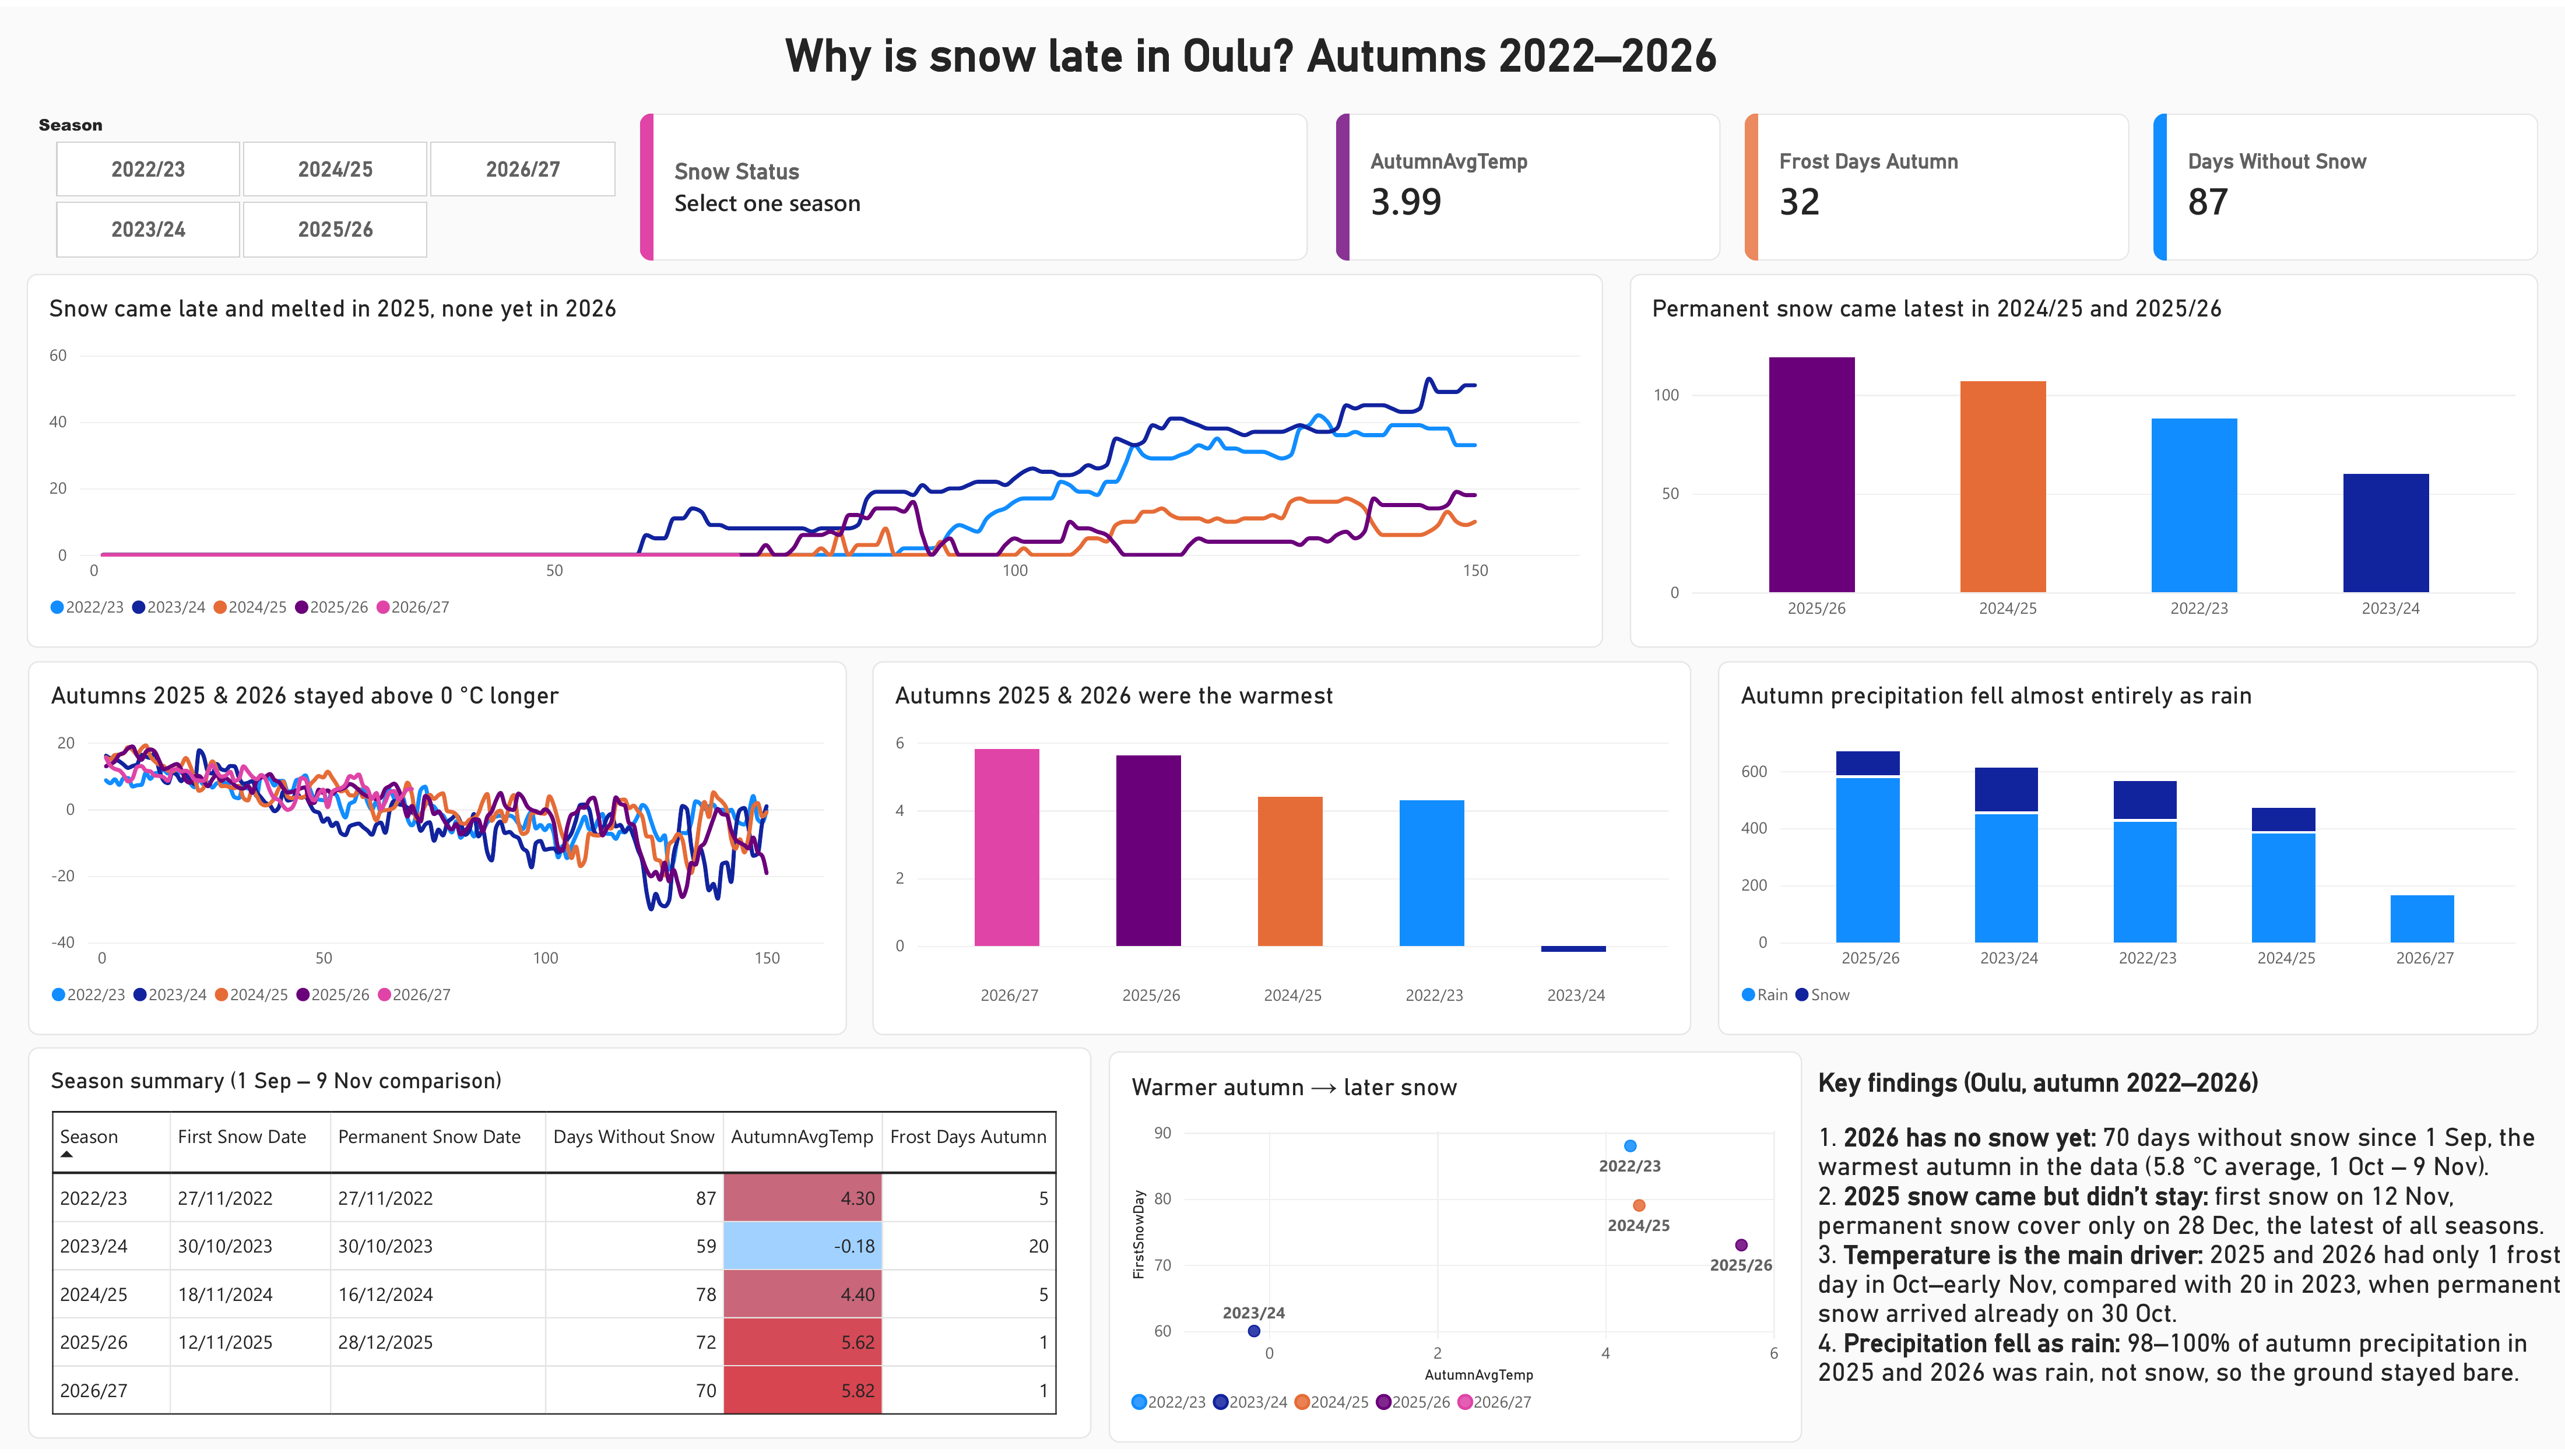

The page's visual inventory and layout, read from the dashboard file:
{"tool":"powerbi","page":{"name":"Snow Delay Analysis","canvas":[1920,1080],"ordinal":0},"visuals":[{"type":"lineChart","title":"Snow came late and melted in 2025, none yet in 2026","fields":{"Category":["Weather.DayOfSeason"],"Series":["Weather.Season"],"Y":["Sum(Weather.SnowDepth_cm)"]},"box":[20,200,1180,280],"z":0},{"type":"lineChart","title":"Autumns 2025 & 2026 stayed above 0 °C longer","fields":{"Category":["Weather.DayOfSeason"],"Series":["Weather.Season"],"Y":["Sum(Weather.AvgTemp_C)"]},"box":[20.5,490,613,280],"z":1000},{"type":"clusteredColumnChart","title":"Autumns 2025 & 2026 were the warmest","fields":{"Category":["Weather.Season"],"Y":["Weather.AutumnAvgTemp"]},"box":[653,490,613,280],"z":2000},{"type":"clusteredColumnChart","title":"Permanent snow came latest in 2024/25 and 2025/26","fields":{"Category":["Weather.Season"],"Y":["Weather.PermanentSnowDay"]},"box":[1220,200,680,280],"z":3000},{"type":"columnChart","title":"Autumn precipitation fell almost entirely as rain","fields":{"Category":["Weather.Season"],"Series":["Weather.PrecipType"],"Y":["Weather.TotalPrecip"]},"box":[1286,490,614,280],"z":4000},{"type":"scatterChart","title":"Warmer autumn → later snow","fields":{"Series":["Weather.Season"],"X":["Weather.AutumnAvgTemp"],"Y":["Weather.FirstSnowDay"]},"box":[830.2,782.2,518.6,292.7],"z":5000},{"type":"slicer","fields":{"Values":["Weather.Season"]},"box":[20.5,80.4,458.7,109.5],"z":6000},{"type":"cardVisual","fields":{"Data":["Weather.Snow Status"]},"box":[479.3,80.4,500,110],"z":7000},{"type":"tableEx","title":"Season summary (1 Sep – 9 Nov comparison)","fields":{"Values":["Weather.Season","Weather.First Snow Date","Weather.Permanent Snow Date","Weather.Days Without Snow","Weather.AutumnAvgTemp","Weather.Frost Days Autumn"]},"box":[20.5,779,795.9,292.7],"z":8000},{"type":"cardVisual","fields":{"Data":["Weather.AutumnAvgTemp"]},"box":[1000,80,288,110],"z":9000},{"type":"cardVisual","fields":{"Data":["Weather.Frost Days Autumn"]},"box":[1306,80,288,110],"z":10000},{"type":"cardVisual","fields":{"Data":["Weather.Days Without Snow"]},"box":[1612,80,288,110],"z":11000},{"type":"textbox","box":[1360.8,794.2,559.7,285.8],"z":12000},{"type":"textbox","box":[75.3,17.1,1723.6,47.9],"z":12001}]}

Visuals, with their boxes in screenshot pixels (x1, y1, x2, y2), scaled from the page's 1920x1080 canvas onto the 2565x1456 screenshot:
"Snow came late and melted in 2025, none yet in 2026" lineChart: {"x1": 27, "y1": 270, "x2": 1603, "y2": 647}
"Autumns 2025 & 2026 stayed above 0 °C longer" lineChart: {"x1": 27, "y1": 660, "x2": 846, "y2": 1038}
"Autumns 2025 & 2026 were the warmest" clusteredColumnChart: {"x1": 872, "y1": 660, "x2": 1691, "y2": 1038}
"Permanent snow came latest in 2024/25 and 2025/26" clusteredColumnChart: {"x1": 1630, "y1": 270, "x2": 2538, "y2": 647}
"Autumn precipitation fell almost entirely as rain" columnChart: {"x1": 1718, "y1": 660, "x2": 2538, "y2": 1038}
"Warmer autumn → later snow" scatterChart: {"x1": 1109, "y1": 1054, "x2": 1802, "y2": 1449}
slicer - Weather.Season: {"x1": 27, "y1": 108, "x2": 640, "y2": 256}
cardVisual - Weather.Snow Status: {"x1": 640, "y1": 108, "x2": 1308, "y2": 256}
"Season summary (1 Sep – 9 Nov comparison)" tableEx: {"x1": 27, "y1": 1050, "x2": 1091, "y2": 1445}
cardVisual - Weather.AutumnAvgTemp: {"x1": 1336, "y1": 108, "x2": 1721, "y2": 256}
cardVisual - Weather.Frost Days Autumn: {"x1": 1745, "y1": 108, "x2": 2130, "y2": 256}
cardVisual - Weather.Days Without Snow: {"x1": 2153, "y1": 108, "x2": 2538, "y2": 256}
textbox: {"x1": 1818, "y1": 1071, "x2": 2564, "y2": 1455}
textbox: {"x1": 101, "y1": 23, "x2": 2403, "y2": 87}
